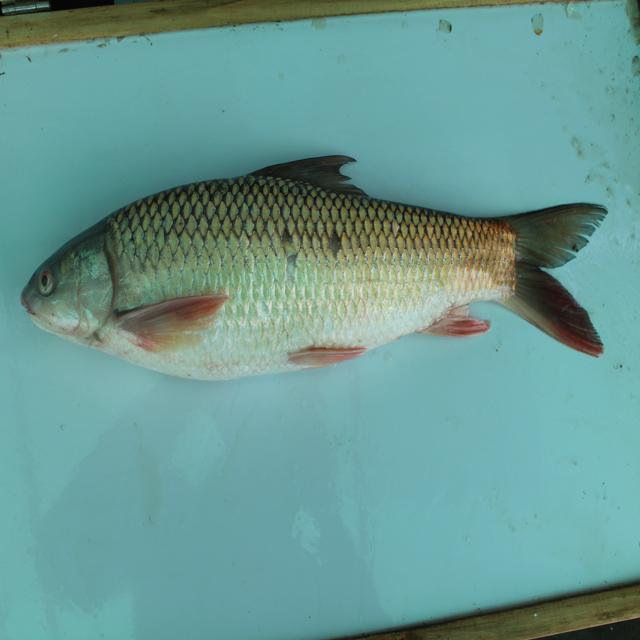Mori: (26, 130, 601, 392)
